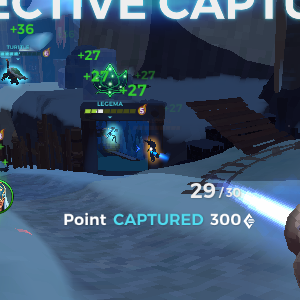model: (144, 135, 161, 163)
